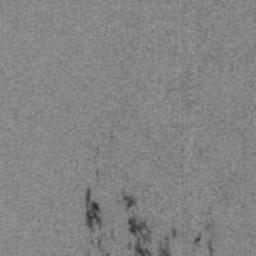Inclusion: (127, 215, 153, 256), (85, 187, 103, 233), (158, 228, 177, 256), (122, 191, 137, 211), (207, 240, 214, 256), (193, 233, 201, 245), (97, 237, 102, 249)
